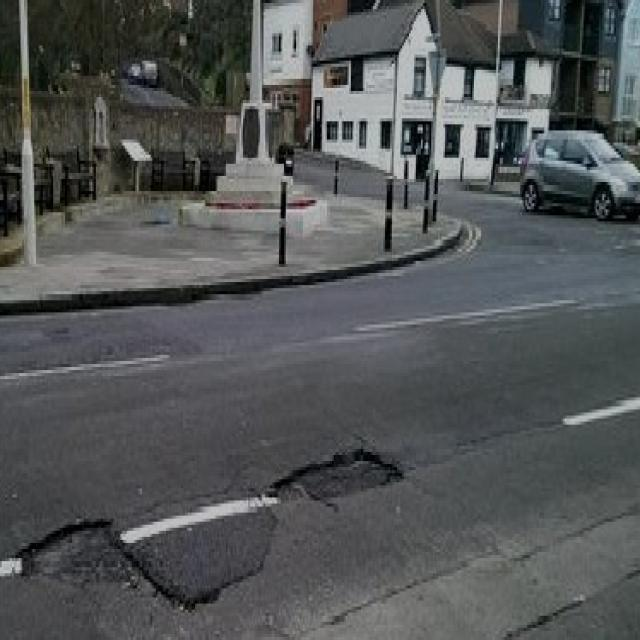road-pothole: (11, 512, 182, 608), (263, 441, 406, 508)
